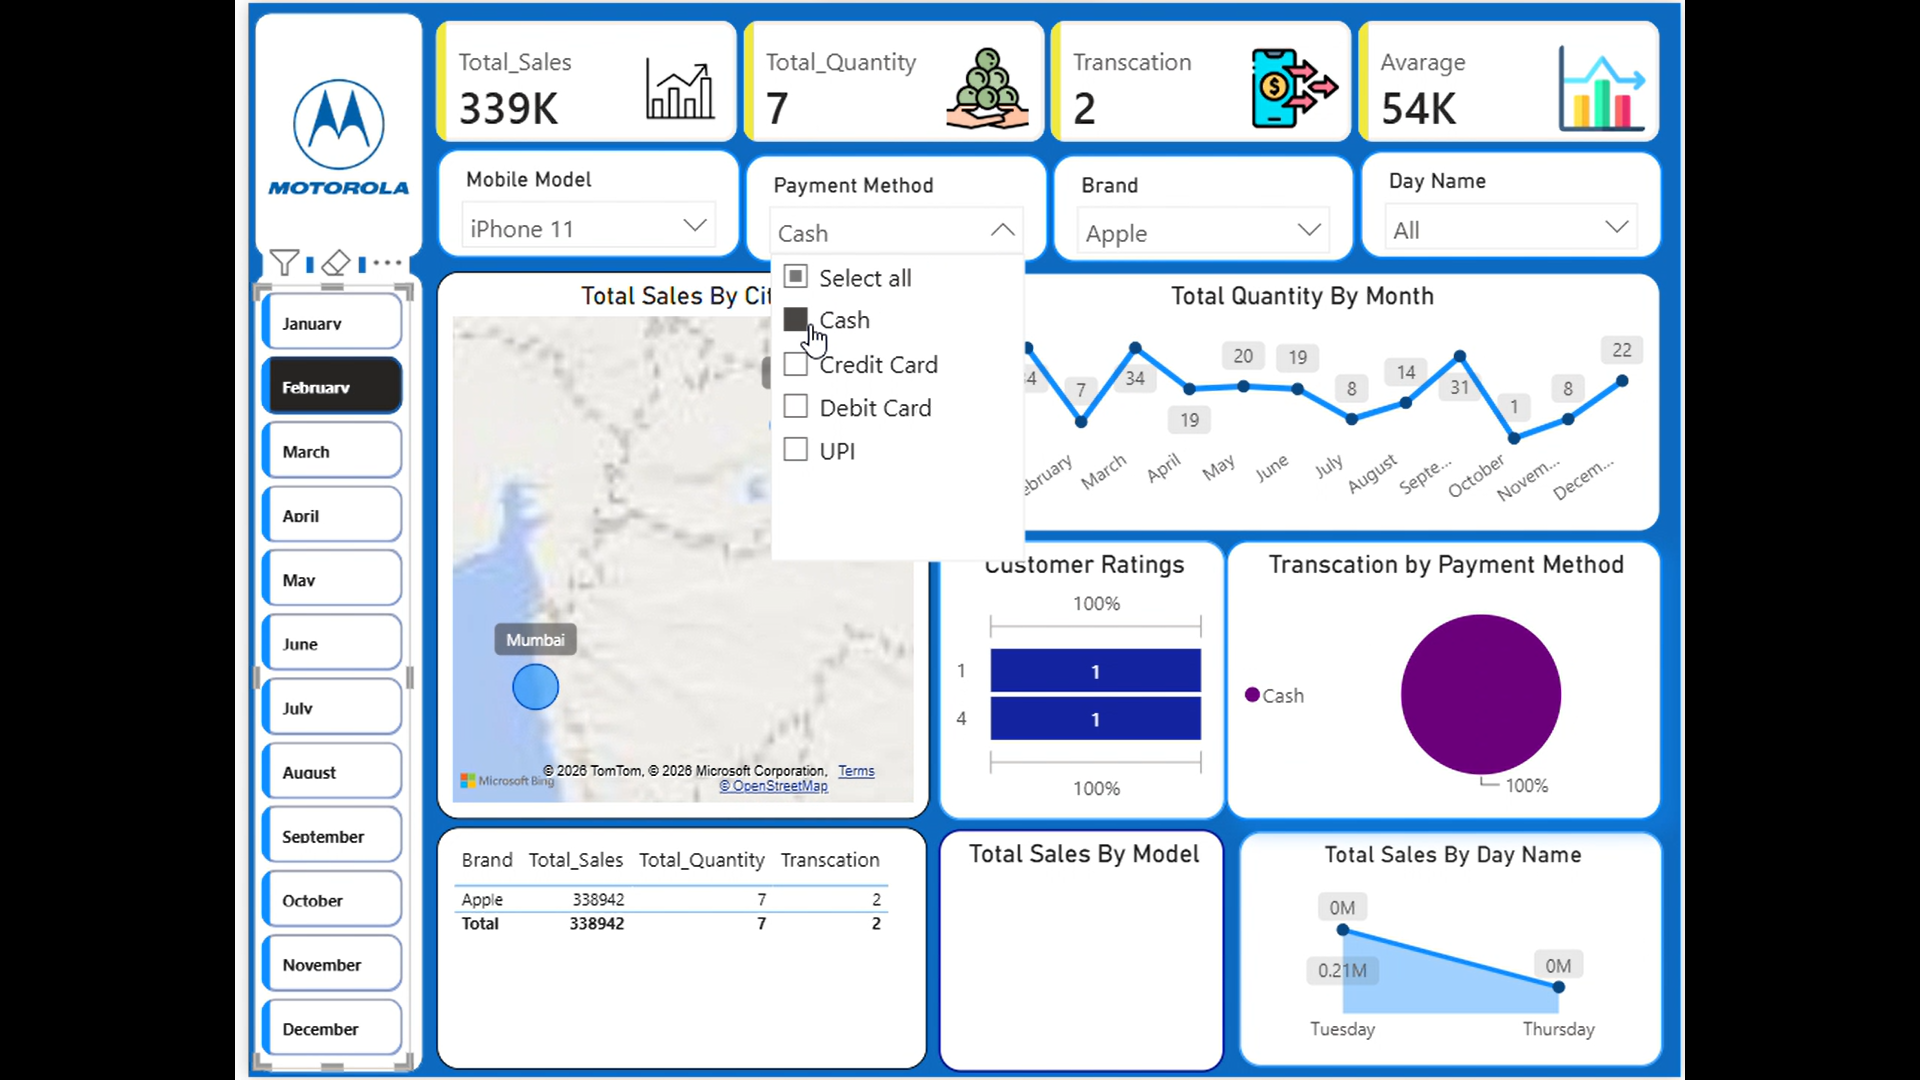

Layout of this report page (visuals, bound fields, positions):
{"tool":"powerbi","page":{"name":"Page 1","canvas":[960,720],"ordinal":0},"visuals":[{"type":"shape","box":[3.8,6.2,113.8,165],"z":0},{"type":"image","box":[13,13,96,153],"z":1000},{"type":"shape","box":[3.8,180,113.8,537.5],"z":2000},{"type":"advancedSlicerVisual","fields":{"Values":["Custom_calender.Date.Variation.Date Hierarchy.Month"]},"box":[3.6,179.8,106.2,540.5],"z":3000},{"type":"cardVisual","fields":{"Data":["Sales_data.Total_Sales","Sales_data.Total_Quantity","Sales_data.Transcation","Sales_data.Avarage"]},"box":[108.8,0,851.2,112.5],"z":4000},{"type":"slicer","fields":{"Values":["Sales_data.Mobile Model"]},"box":[126.2,97.5,203.8,73.8],"z":5000},{"type":"slicer","fields":{"Values":["Sales_data.Payment Method"]},"box":[332.5,101.2,203.8,72.5],"z":6000},{"type":"slicer","fields":{"Values":["Sales_data.Brand"]},"box":[539,101,203,73],"z":7000},{"type":"slicer","fields":{"Values":["Custom_calender.Day Name"]},"box":[745,99,203,73],"z":8000},{"type":"map","title":"Total Sales By City","fields":{"Category":["Sales_data.City"],"Size":["Sales_data.Total_Sales"]},"box":[126.2,180,330,367.5],"z":9000},{"type":"tableEx","fields":{"Values":["Sales_data.Brand","Sales_data.Total_Sales","Sales_data.Total_Quantity","Sales_data.Transcation"]},"box":[126.2,552.5,328.8,162.5],"z":10000},{"type":"lineChart","title":"Total Quantity By Month","fields":{"Y":["Sales_data.Total_Quantity"],"Category":["Custom_calender.Date.Variation.Date Hierarchy.Month","Custom_calender.Date.Variation.Date Hierarchy.Day"]},"box":[462.5,180,485,175],"z":11000},{"type":"funnel","title":"Customer Ratings","fields":{"Category":["Sales_data.Customer Ratings"],"Y":["CountNonNull(Sales_data.Brand)"]},"box":[462.3,360,193.1,187.7],"z":12000},{"type":"stackedAreaChart","title":"Total Sales By Day Name","fields":{"Y":["Sales_data.Total_Sales"],"Category":["Custom_calender.Day Name"]},"box":[663.8,554.6,284.6,158.5],"z":13000},{"type":"hundredPercentStackedBarChart","title":"Total Sales By Model","fields":{"Category":["Sales_data.Mobile Model"],"Y":["Sales_data.Total_Sales"]},"box":[462.3,553.8,192.3,163.1],"z":14000},{"type":"pieChart","fields":{"Y":["Sales_data.Transcation"],"Category":["Sales_data.Payment Method"]},"box":[663.5,359.5,284.7,188.2],"z":15000}]}

Visuals, with their boxes in screenshot pixels (x1, y1, x2, y2):
shape: crop(251, 14, 419, 258)
image: crop(264, 24, 406, 251)
shape: crop(251, 271, 419, 1066)
advancedSlicerVisual - Custom_calender.Date.Variation.Date Hierarchy.Month: crop(250, 271, 407, 1071)
cardVisual - Sales_data.Total_Sales x Sales_data.Total_Quantity: crop(406, 5, 1665, 171)
slicer - Sales_data.Mobile Model: crop(432, 149, 733, 258)
slicer - Sales_data.Payment Method: crop(737, 155, 1038, 262)
slicer - Sales_data.Brand: crop(1042, 154, 1343, 262)
slicer - Custom_calender.Day Name: crop(1347, 151, 1647, 259)
"Total Sales By City" map: crop(432, 271, 920, 815)
tableEx - Sales_data.Brand x Sales_data.Total_Sales: crop(432, 822, 918, 1063)
"Total Quantity By Month" lineChart: crop(929, 271, 1647, 530)
"Customer Ratings" funnel: crop(929, 538, 1215, 815)
"Total Sales By Day Name" stackedAreaChart: crop(1227, 825, 1648, 1060)
"Total Sales By Model" hundredPercentStackedBarChart: crop(929, 824, 1213, 1065)
pieChart - Sales_data.Transcation x Sales_data.Payment Method: crop(1226, 537, 1648, 815)
